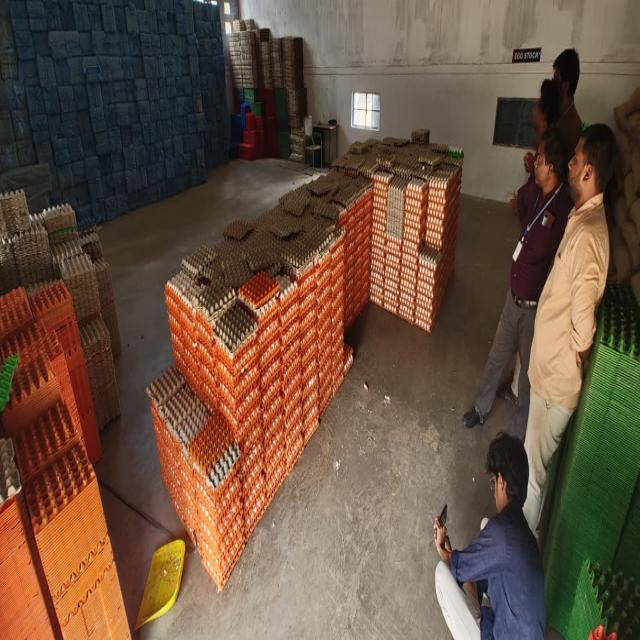egg_tray: (168, 150, 428, 536), (0, 289, 114, 632), (22, 206, 119, 433), (148, 367, 245, 587), (166, 272, 258, 441), (13, 282, 100, 459), (370, 165, 461, 330), (25, 443, 106, 615), (286, 251, 342, 442), (0, 439, 53, 637), (192, 294, 258, 441), (298, 239, 343, 440), (152, 385, 210, 532), (158, 384, 239, 487), (146, 366, 193, 538), (182, 404, 241, 541), (0, 321, 80, 421), (194, 446, 246, 587), (416, 167, 460, 330), (282, 263, 318, 459), (194, 461, 246, 588), (256, 279, 285, 503), (61, 544, 130, 637), (151, 400, 196, 540), (278, 277, 308, 472), (190, 284, 236, 408), (214, 330, 261, 450), (14, 399, 80, 482), (332, 137, 463, 178), (282, 330, 317, 470), (156, 427, 198, 541), (2, 354, 60, 435), (338, 189, 372, 325), (320, 234, 345, 415), (80, 316, 119, 428), (398, 178, 428, 322), (187, 411, 240, 487), (165, 272, 198, 384), (28, 282, 79, 352), (159, 385, 210, 449), (416, 247, 454, 330), (281, 344, 316, 431), (370, 172, 392, 306), (425, 168, 461, 249), (61, 253, 99, 323), (316, 255, 332, 415), (330, 235, 346, 395), (240, 440, 266, 538), (12, 222, 52, 284), (259, 316, 282, 415), (402, 178, 428, 262), (214, 304, 257, 353), (250, 272, 280, 342), (264, 405, 286, 500), (352, 205, 371, 310), (31, 203, 77, 246), (0, 319, 46, 360), (264, 417, 286, 501), (192, 282, 236, 323), (258, 315, 280, 394), (344, 256, 368, 327), (245, 229, 281, 276), (298, 265, 316, 357), (261, 362, 284, 432), (147, 366, 186, 405), (238, 272, 278, 310), (0, 288, 31, 335), (80, 316, 110, 364), (283, 405, 304, 473), (386, 176, 408, 239), (210, 441, 240, 487), (300, 375, 320, 443), (384, 235, 401, 313), (50, 238, 83, 278), (276, 275, 298, 333), (282, 239, 316, 276), (0, 189, 28, 233), (398, 258, 417, 322), (334, 176, 372, 208), (308, 224, 343, 258), (181, 245, 216, 276), (220, 254, 252, 287), (270, 206, 302, 239), (0, 234, 18, 291), (369, 239, 384, 305), (285, 422, 304, 473), (371, 205, 386, 263), (419, 246, 442, 283), (338, 209, 360, 247), (385, 235, 402, 284), (285, 383, 300, 438), (78, 228, 103, 260), (372, 170, 392, 210), (398, 278, 416, 322), (372, 207, 386, 263), (372, 187, 386, 243), (353, 266, 368, 318), (280, 189, 307, 216), (308, 173, 338, 197), (312, 200, 340, 221), (224, 220, 252, 240), (106, 580, 121, 614), (358, 156, 379, 179), (159, 367, 181, 388), (333, 162, 359, 177), (14, 240, 28, 266), (343, 343, 353, 375), (344, 252, 355, 279), (206, 285, 230, 297), (411, 128, 430, 143), (20, 343, 34, 362), (148, 383, 160, 404), (214, 564, 226, 585), (287, 194, 302, 209), (417, 200, 424, 232), (88, 439, 99, 459), (304, 422, 316, 440), (64, 297, 72, 319), (206, 448, 213, 463), (292, 246, 300, 257), (290, 260, 300, 268), (306, 417, 312, 429), (345, 287, 350, 299), (74, 328, 78, 343), (190, 398, 198, 405), (388, 141, 396, 148), (302, 254, 309, 262), (34, 350, 45, 355), (333, 243, 340, 250), (273, 300, 278, 309), (391, 273, 394, 287), (4, 409, 6, 428), (186, 387, 192, 393), (399, 141, 405, 147), (302, 285, 308, 291), (395, 218, 400, 225), (338, 336, 343, 343), (283, 250, 287, 257), (396, 180, 400, 186), (265, 418, 268, 426), (108, 394, 111, 401), (303, 284, 307, 289), (298, 321, 301, 327), (3, 343, 7, 347), (265, 420, 267, 426), (315, 394, 316, 406), (241, 296, 244, 300), (405, 301, 408, 305), (295, 377, 297, 383), (22, 290, 24, 295), (452, 241, 454, 246), (281, 196, 284, 199), (277, 394, 279, 398), (164, 472, 168, 474), (296, 225, 298, 229), (93, 560, 95, 563), (301, 306, 302, 312), (27, 309, 29, 312), (42, 288, 48, 289), (206, 561, 208, 564), (182, 451, 184, 454), (82, 360, 83, 365), (288, 256, 290, 258), (182, 478, 184, 480), (353, 172, 355, 174), (95, 234, 96, 238), (384, 186, 387, 187), (345, 275, 347, 276), (225, 573, 227, 574), (377, 163, 379, 164), (338, 158, 339, 160), (22, 273, 24, 274), (148, 391, 148, 392), (50, 358, 50, 358), (48, 353, 48, 354), (190, 382, 192, 382), (161, 422, 161, 423), (76, 600, 76, 602), (34, 354, 34, 355), (164, 394, 166, 394), (94, 424, 94, 428), (81, 356, 81, 358), (70, 347, 70, 348), (21, 429, 21, 430), (99, 290, 99, 292), (174, 501, 174, 502), (396, 230, 396, 232), (376, 160, 376, 162), (328, 285, 328, 288), (294, 450, 294, 452), (294, 441, 294, 442), (303, 302, 303, 306), (254, 394, 256, 394)
